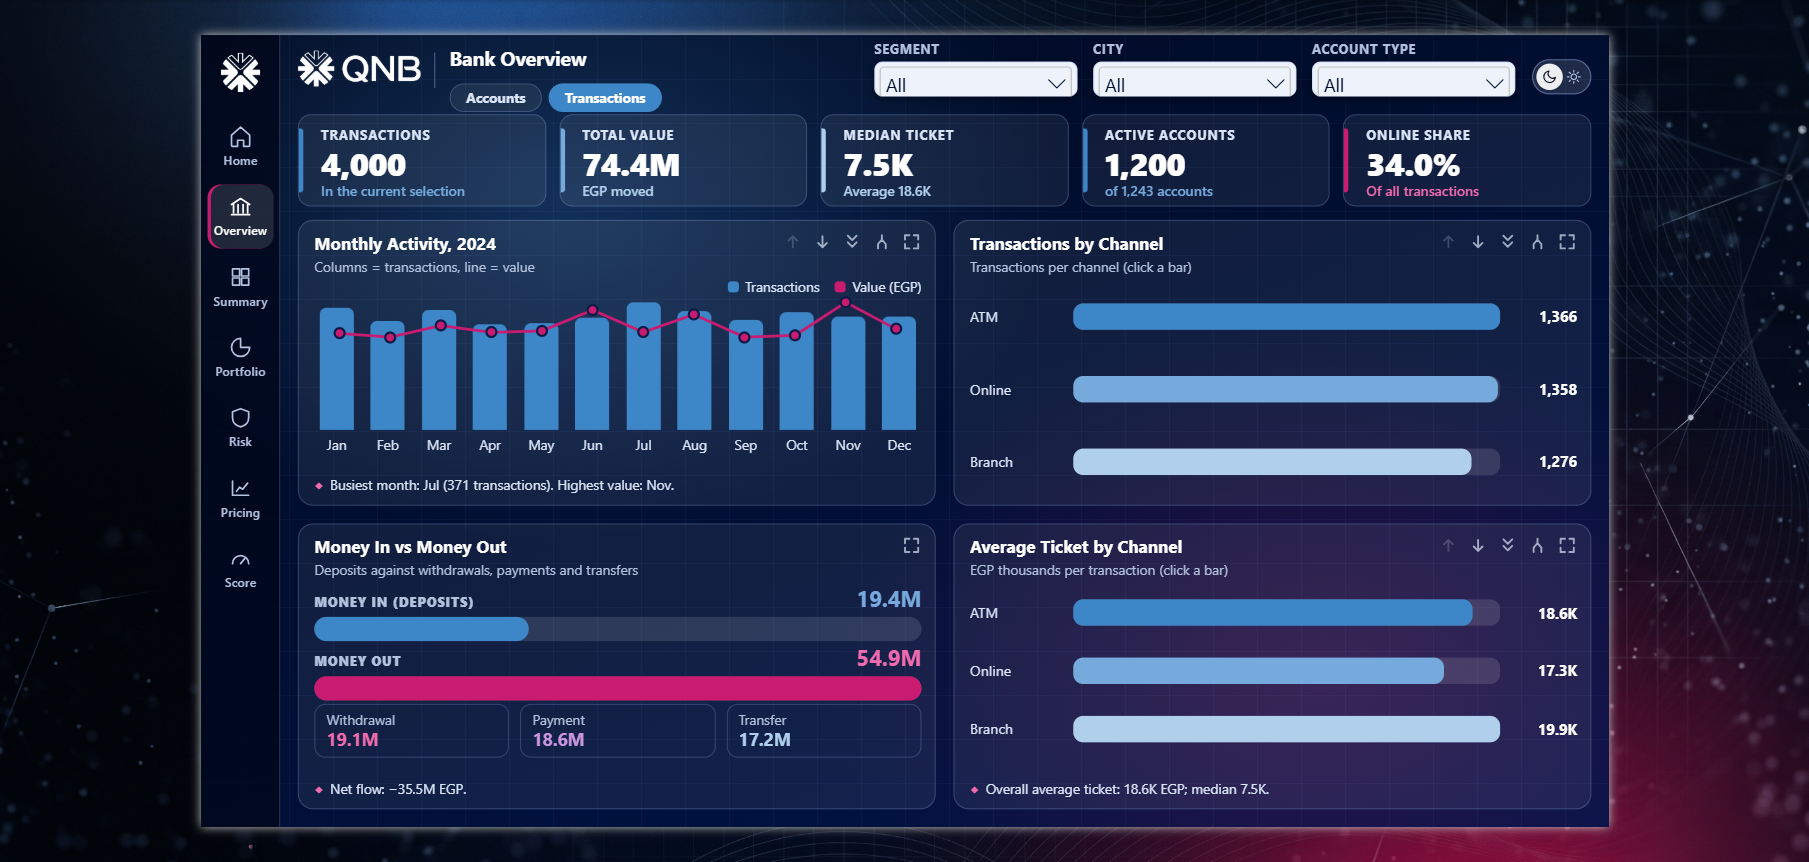

This screenshot's page, from the dashboard's own definition file:
{"tool":"powerbi","page":{"name":"Overview Page","canvas":[1280,720],"ordinal":1},"visuals":[{"type":"htmlContent443BE3AD55E043BF878BED274D3A6855","fields":{"content":["HTML Visuals.page_02_overview"]},"box":[0,0,1280,720],"z":0},{"type":"slicer","fields":{"Values":["dim_customer.segment"]},"box":[612,24,185,32],"z":101},{"type":"slicer","fields":{"Values":["dim_customer.city"]},"box":[811,24,185,32],"z":102},{"type":"slicer","fields":{"Values":["dim_account_type.account_type"]},"box":[1010,24,185,32],"z":103}]}

Visuals, with their boxes on the page's 1280x720 design canvas (x1, y1, x2, y2). These are canvas units, not pixel positions in the 1809x862 screenshot, which may show the page scaled, cropped or inside an application window:
htmlContent443BE3AD55E043BF878BED274D3A6855 - HTML Visuals.page_02_overview: <region>0, 0, 1280, 720</region>
slicer - dim_customer.segment: <region>612, 24, 797, 56</region>
slicer - dim_customer.city: <region>811, 24, 996, 56</region>
slicer - dim_account_type.account_type: <region>1010, 24, 1195, 56</region>
